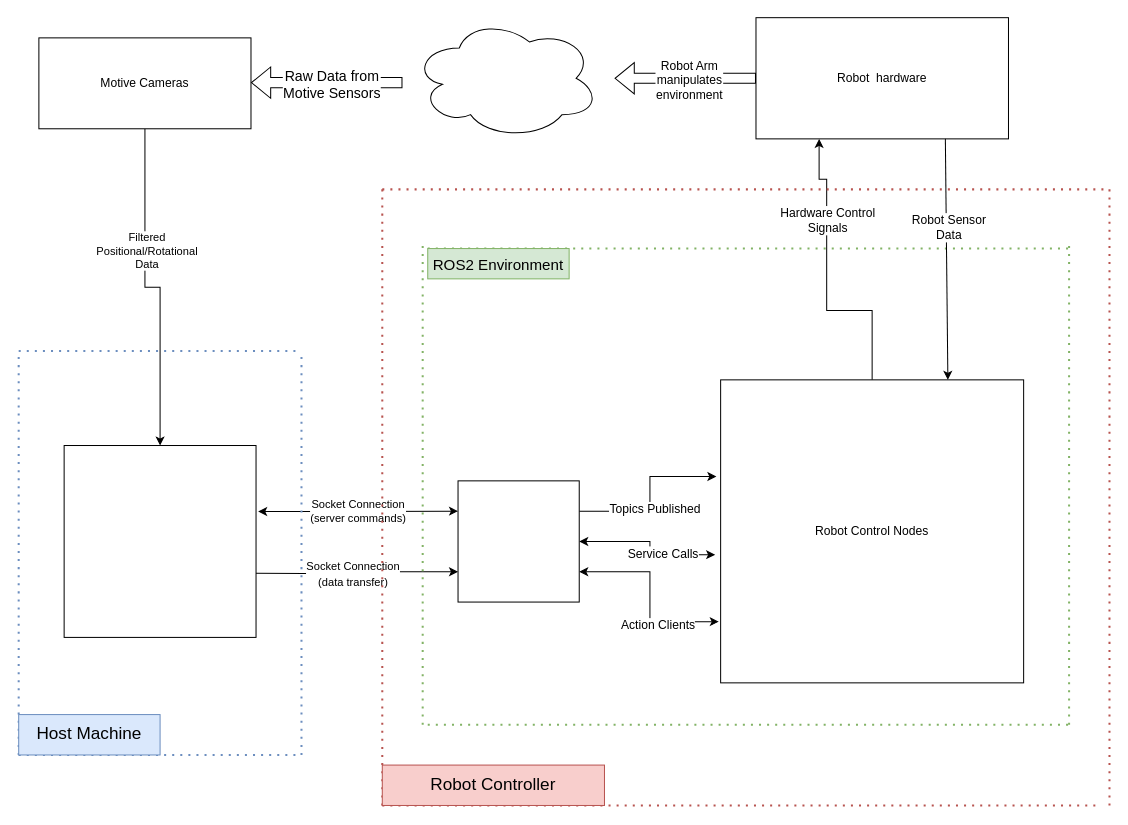
This 1128x825 diagram has some shape labels left out. The box of each missing label's shape, as (x1, y1, x2, y2) in pixels:
Motive Application (NatNet Server): (63, 445, 256, 637)
Real World: (412, 17, 599, 139)
ROS2 plugin (NatNet Client): (457, 480, 579, 602)
